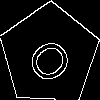O: (24, 30, 83, 88)
